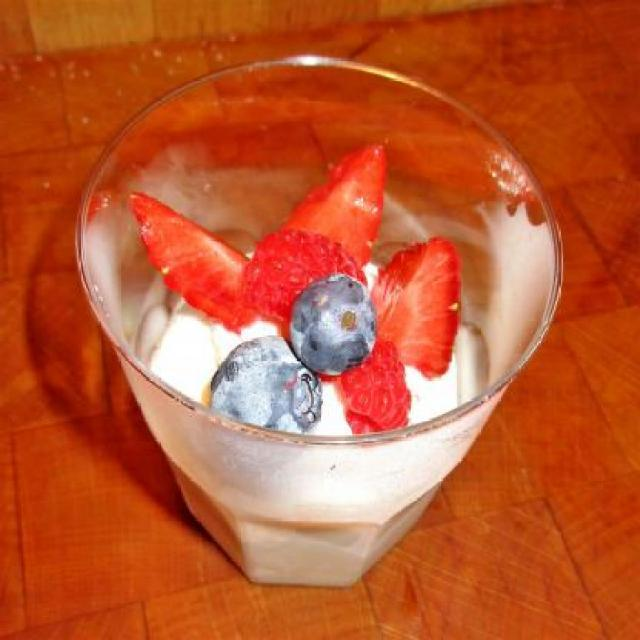Strawberry: (127, 191, 256, 334), (368, 234, 458, 378), (245, 220, 368, 320), (286, 146, 382, 266), (338, 330, 411, 444)
